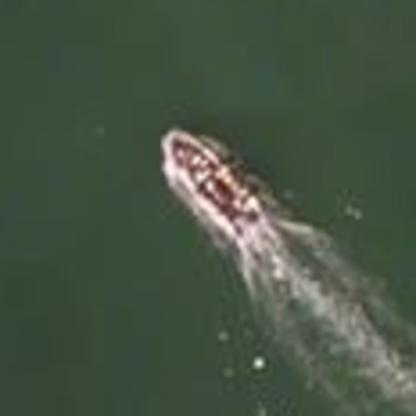ship: (154, 118, 276, 246)
